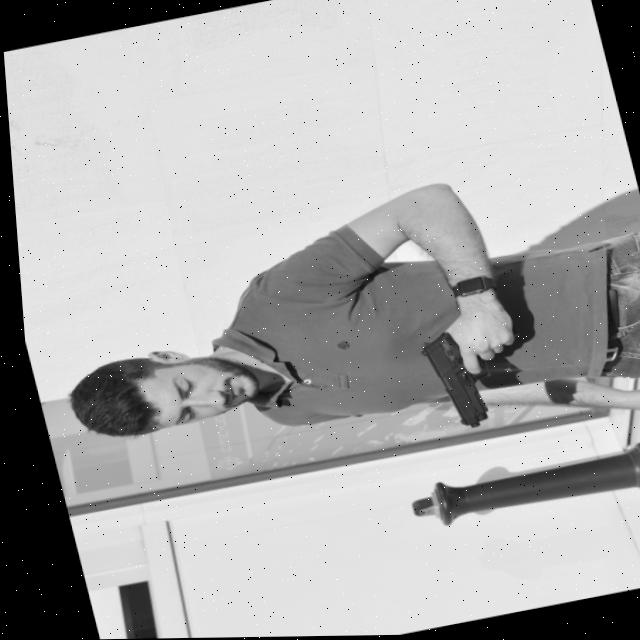pistol: (410, 326, 497, 435)
